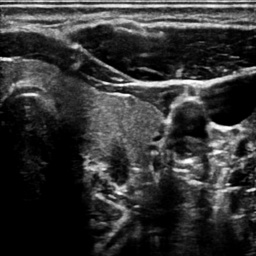mass: (110, 143, 130, 182)
